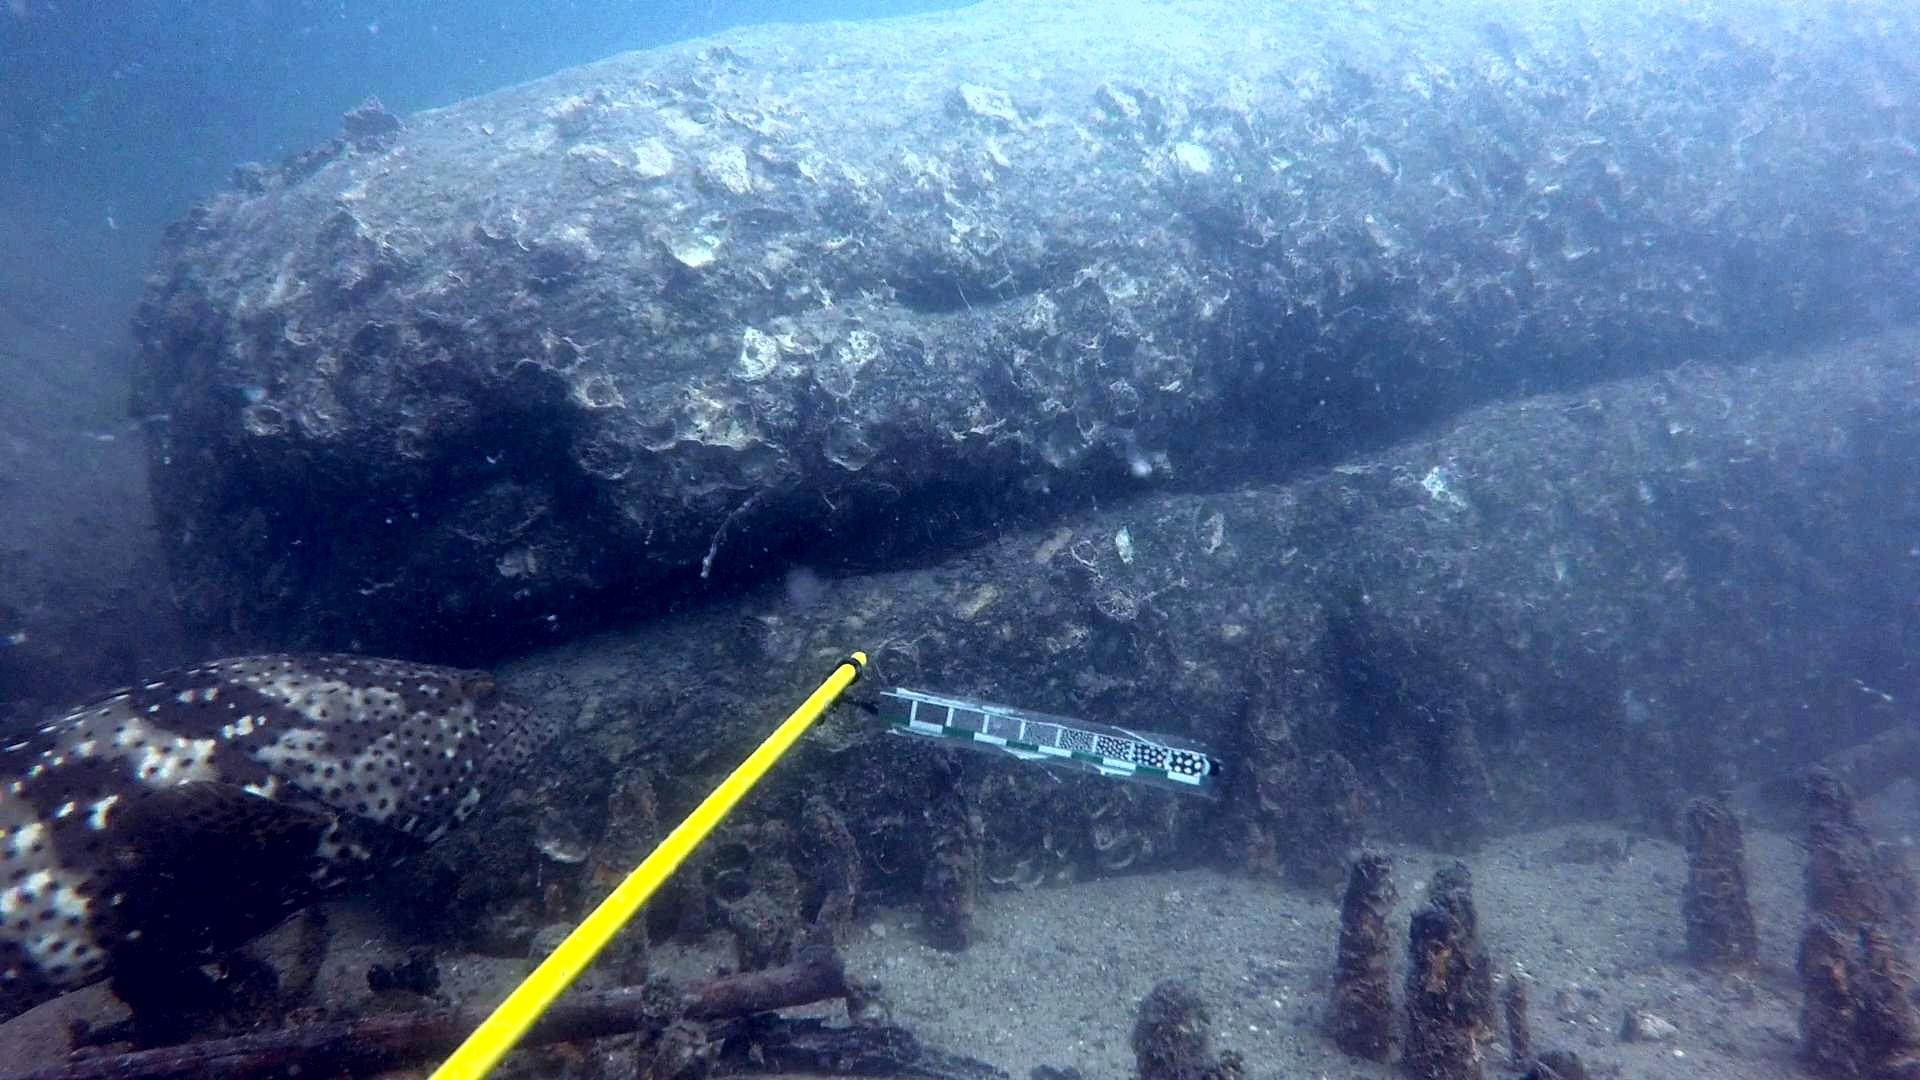epinephelus: (0, 641, 571, 1031)
